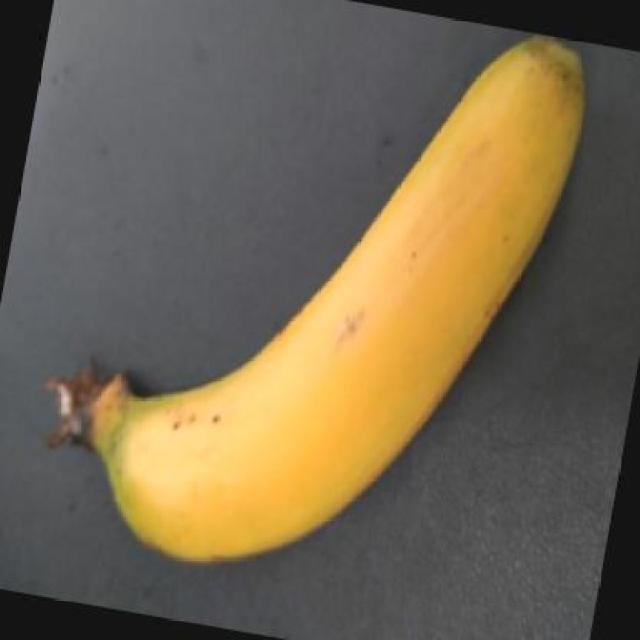Ripe: (17, 13, 600, 590)
